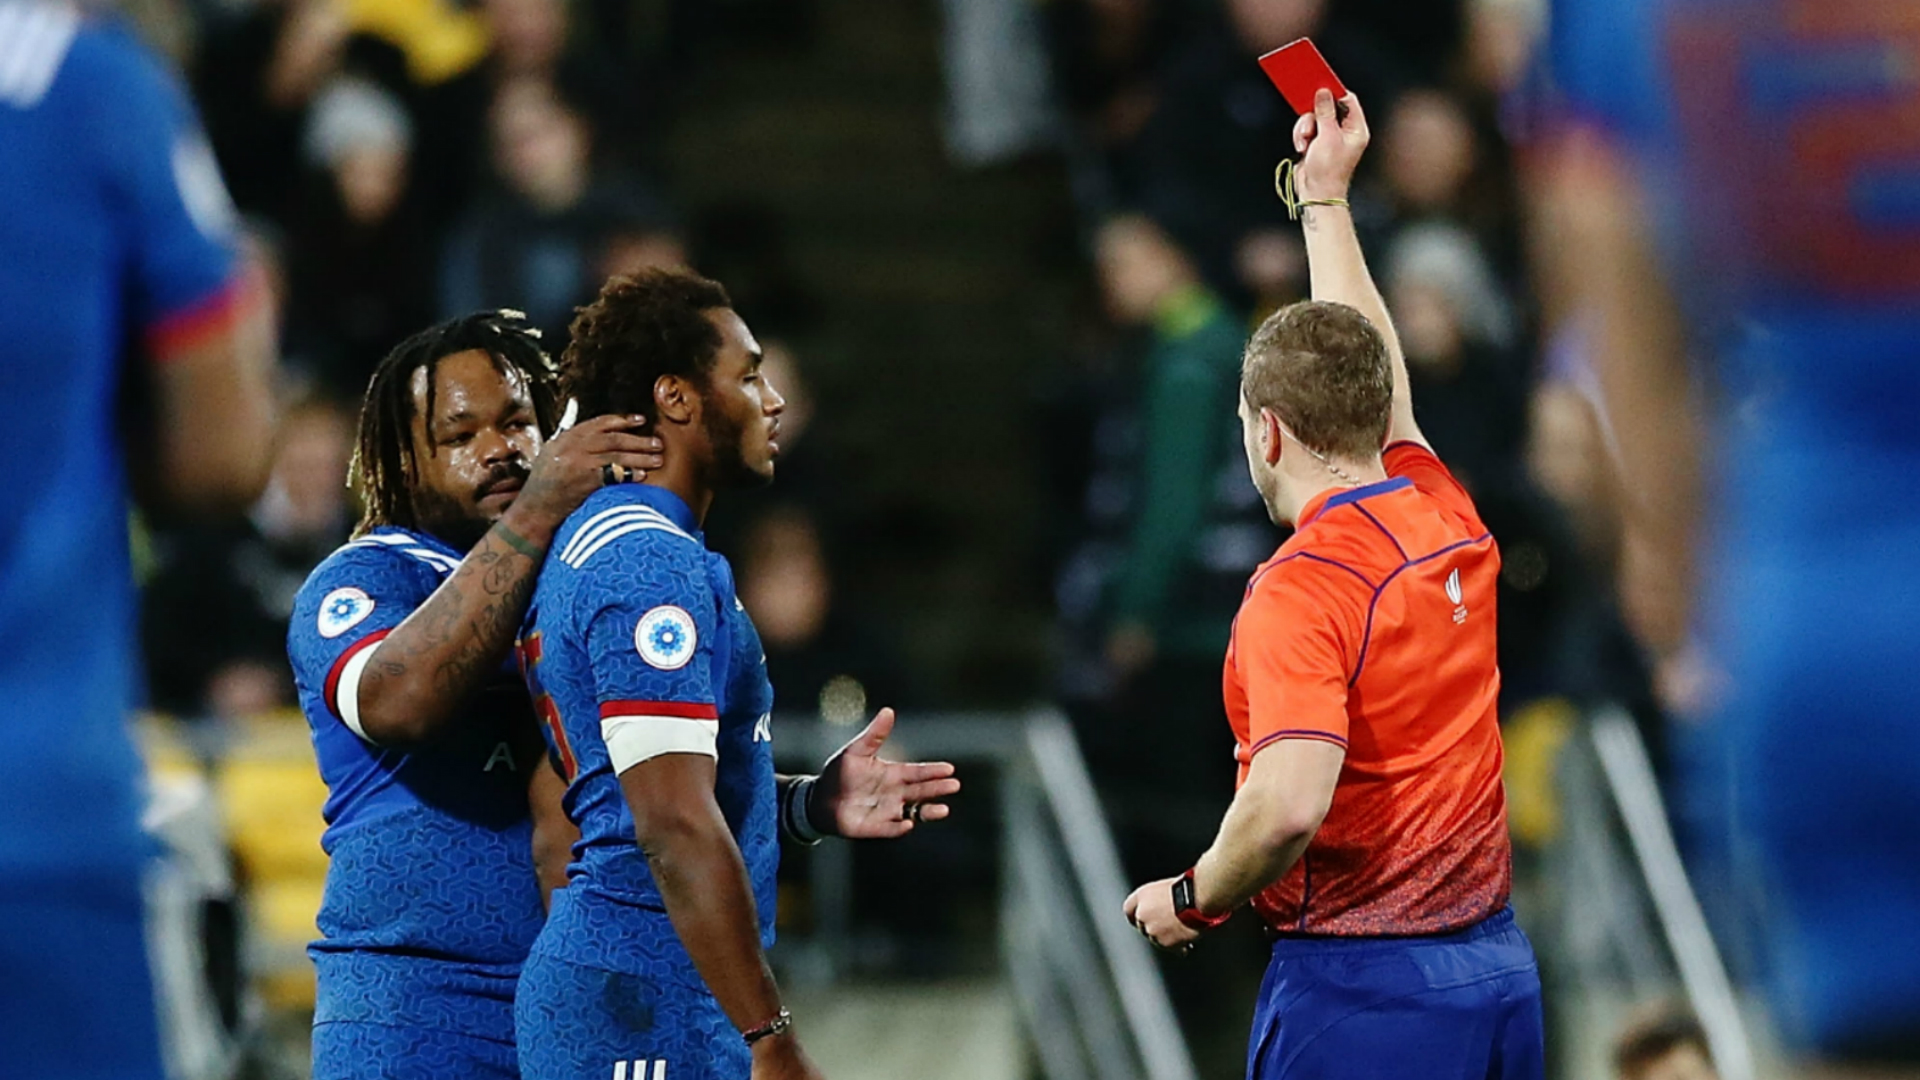red_card: (1233, 24, 1383, 204)
